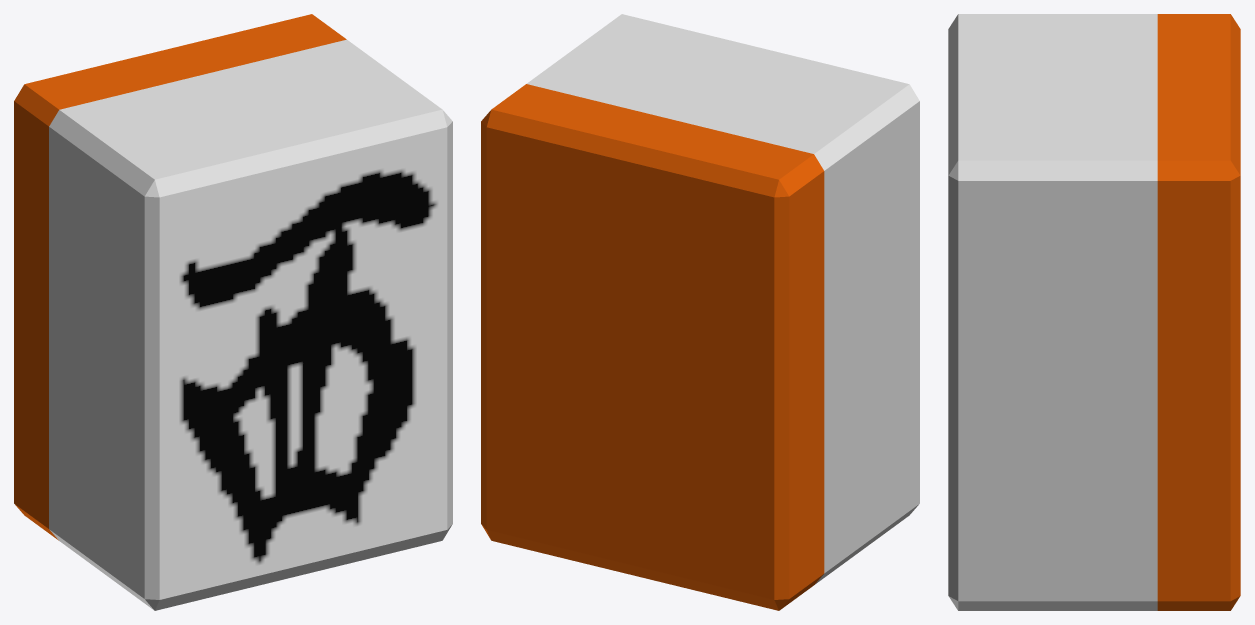
Rendered from West.gltf.
3 renders of one model, left to right at view 1: azimuth 30°, elevation 25°; view 2: azimuth 150°, elevation 25°; view 3: azimuth 270°, elevation 25°, orthographic. The views are drawn at different scales.
Parts seen in each view (by area): view 1: Cube; view 2: Cube; view 3: Cube.
Part boxes in pixels (<box>): Cube: <box>14,14,452,610</box>; Cube: <box>481,14,919,610</box>; Cube: <box>948,14,1240,610</box>.
Bounding box in the file's own units: 1.95 × 2.6 × 1.53.
3 materials, 1 textured.
